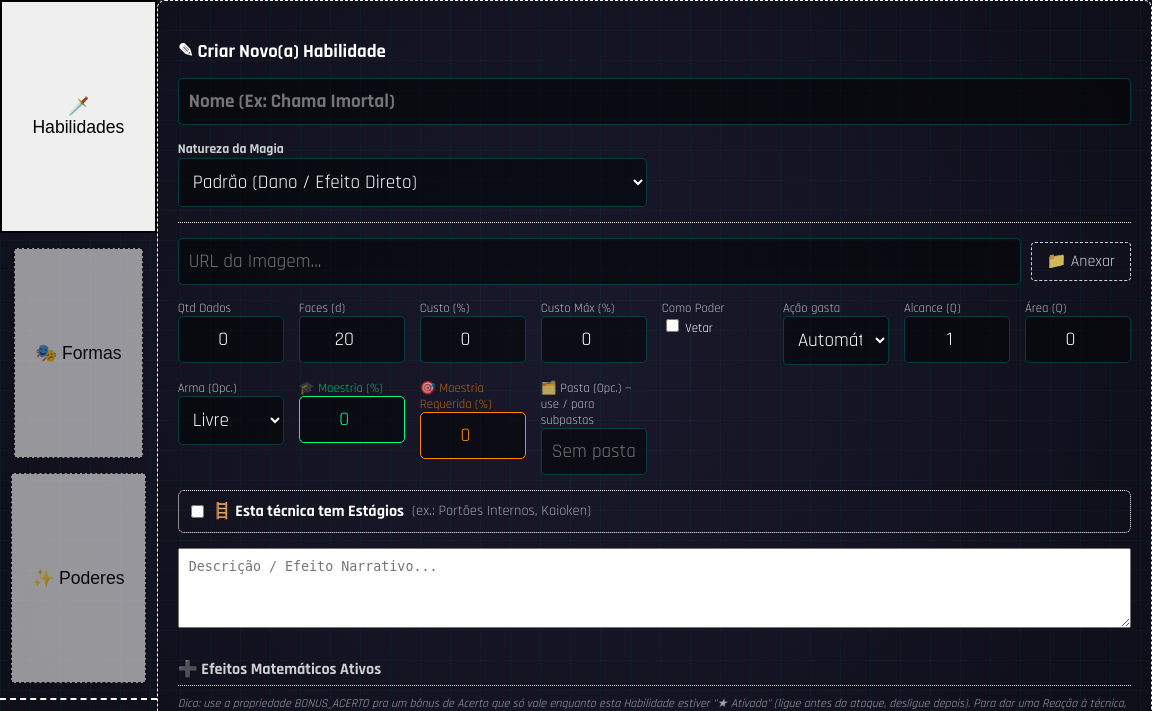
PoderesFormEditor (UI) — bloco de Estágios › desmarcar de novo esconde os campos
The width and height of the screenshot is (1152, 711).
Step 1. Click the checkbox labelled "🪜 Esta técnica tem Estágios (ex.: Portões Internos, Kaioken)" → (197,511), box [191,505,204,518]
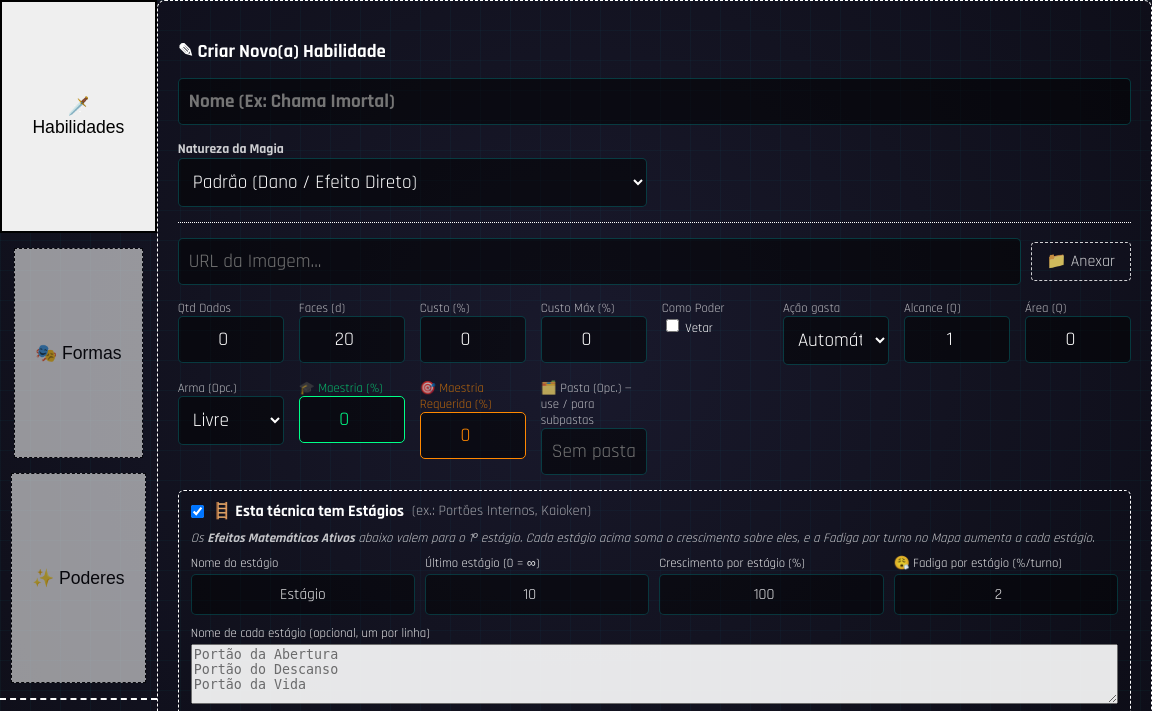
Step 2. Click the checkbox labelled "🪜 Esta técnica tem Estágios (ex.: Portões Internos, Kaioken)" → (197,511), box [191,505,204,518]
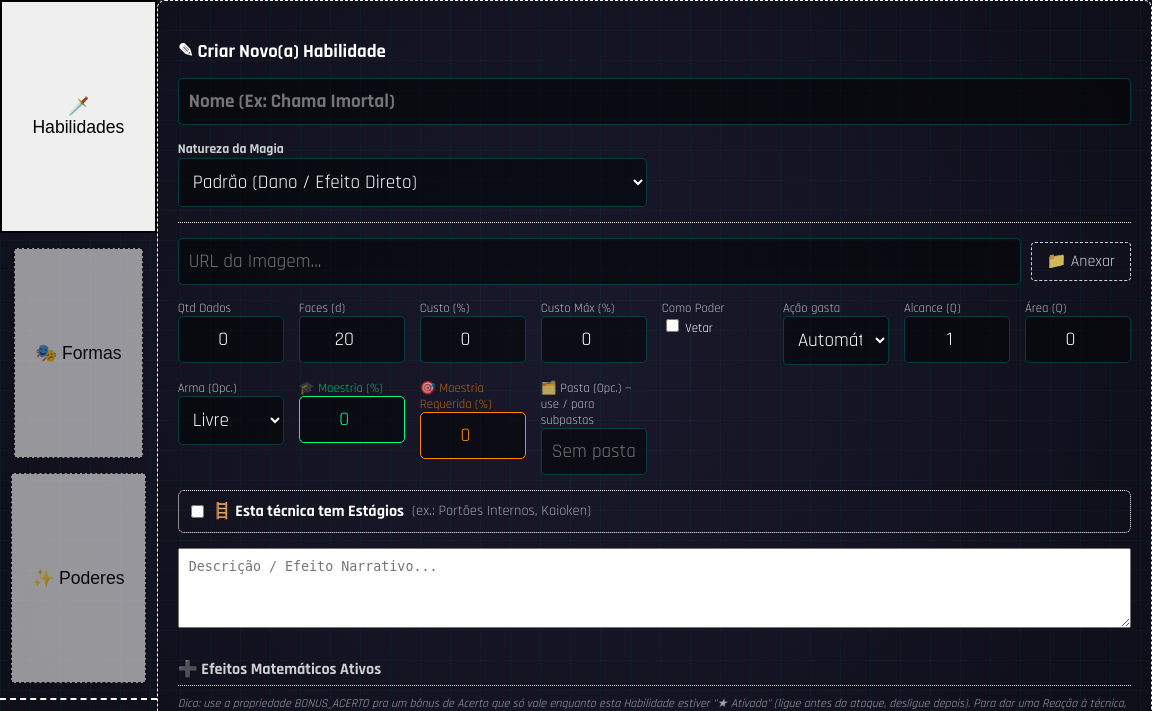
Expected: the text "Crescimento por estágio" is gone
